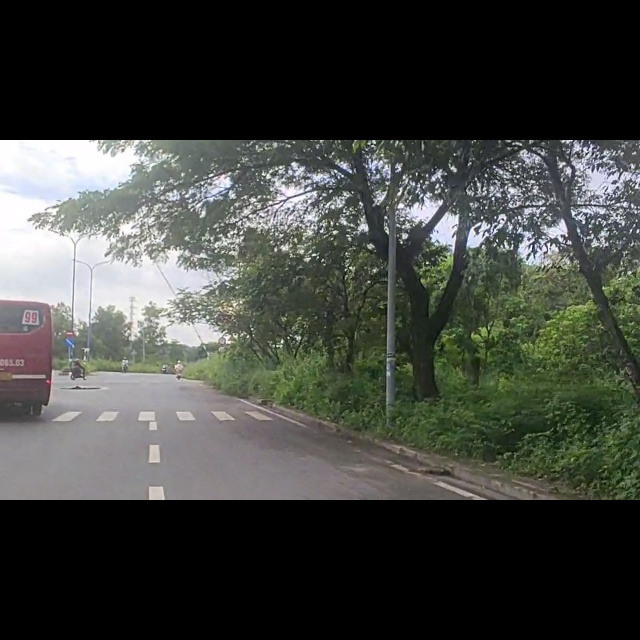bien_hieu_lenh: (66, 350, 77, 369), (65, 334, 75, 352)
